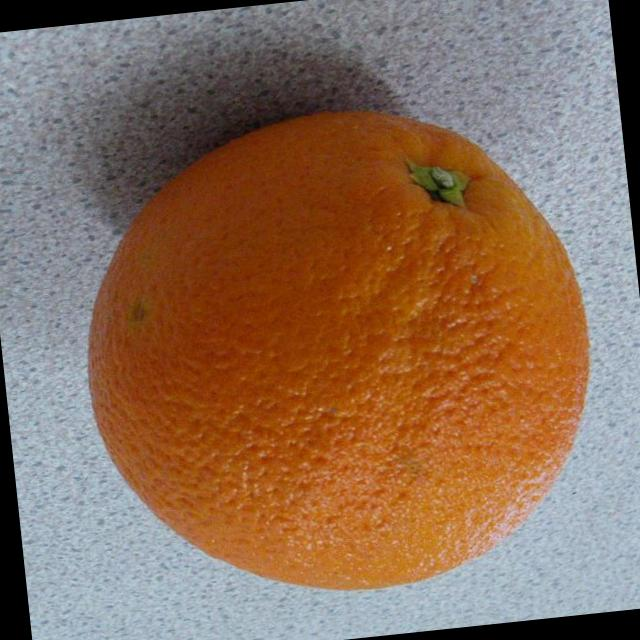Orange: (61, 85, 613, 618)
